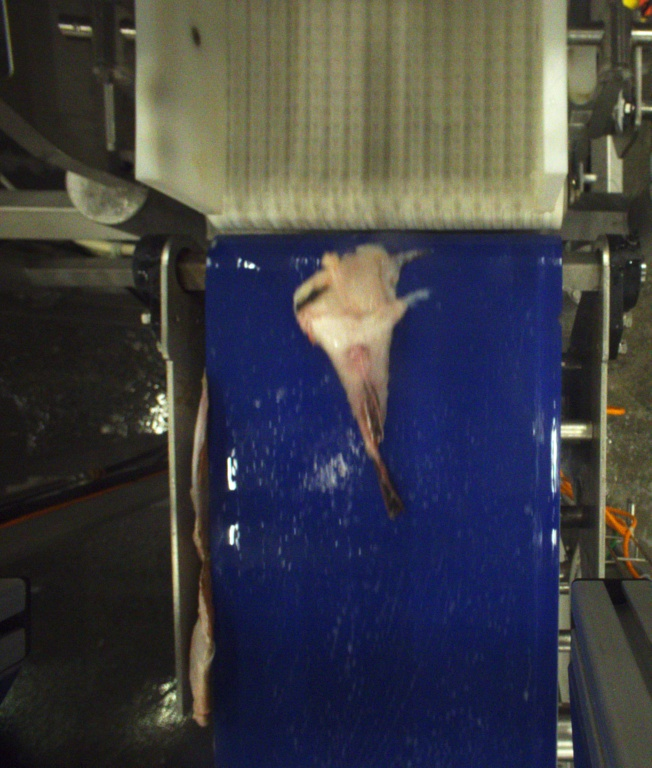ANF: (296, 242, 422, 523)
